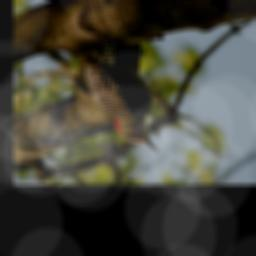Woodpecker: (84, 34, 160, 153)
